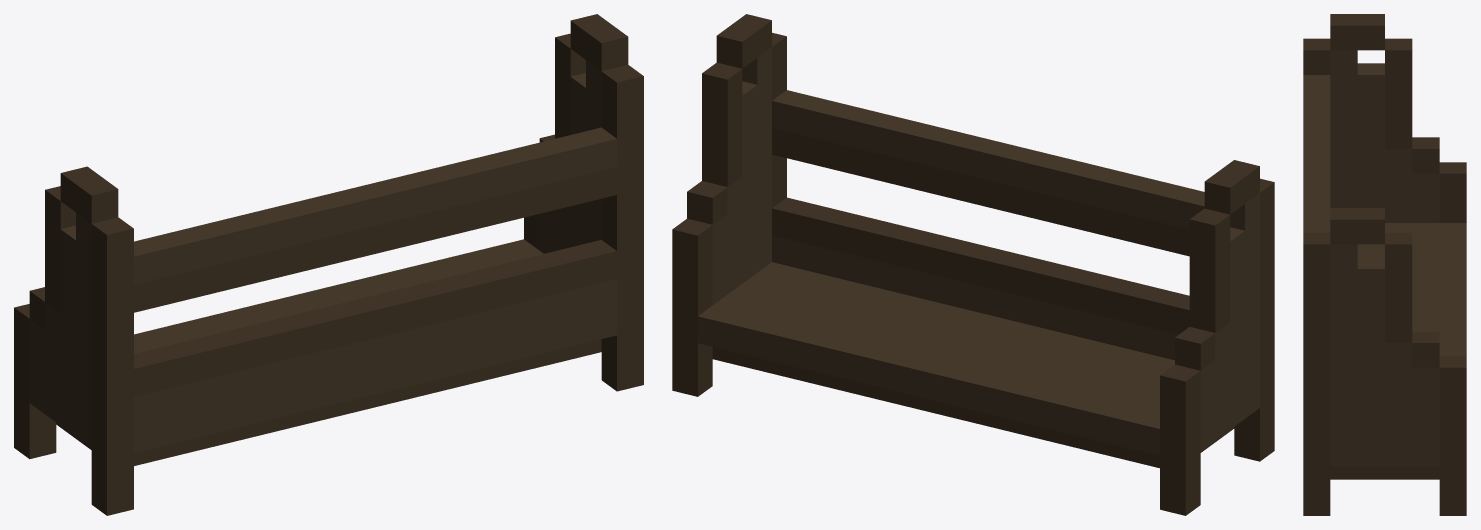
The model's file is church-27-ch_bench2.obj.
3 views of the same model, side by side, from view 1: azimuth 30°, elevation 25°; view 2: azimuth 150°, elevation 25°; view 3: azimuth 270°, elevation 25° (orthographic). The views are drawn at different scales.
Parts seen in each view (by area): view 1: ch_bench2; view 2: ch_bench2; view 3: ch_bench2.
Boxes of the visible parts, x1,y1,x2,y2 form: ch_bench2: (14,14,643,515); ch_bench2: (672,14,1274,515); ch_bench2: (1303,14,1466,515).
Size of the model in its own units: 2 by 1.2 by 0.6.
1 material, 1 textured.
